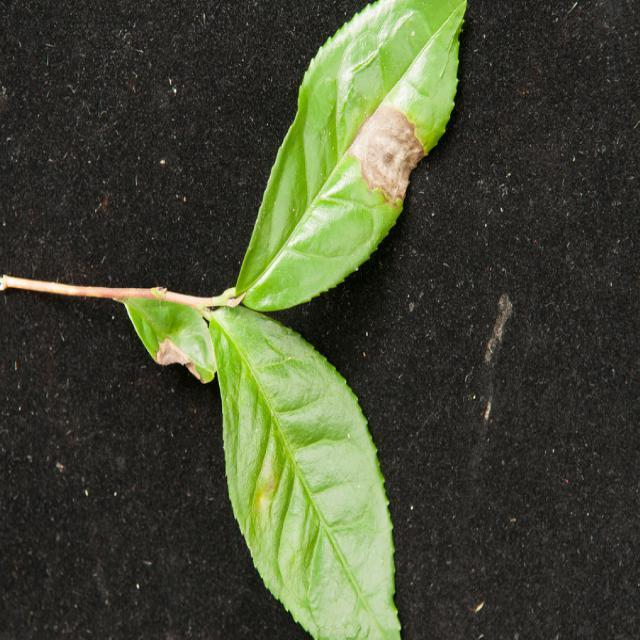Tea exobasidium blight: (353, 93, 434, 213)
